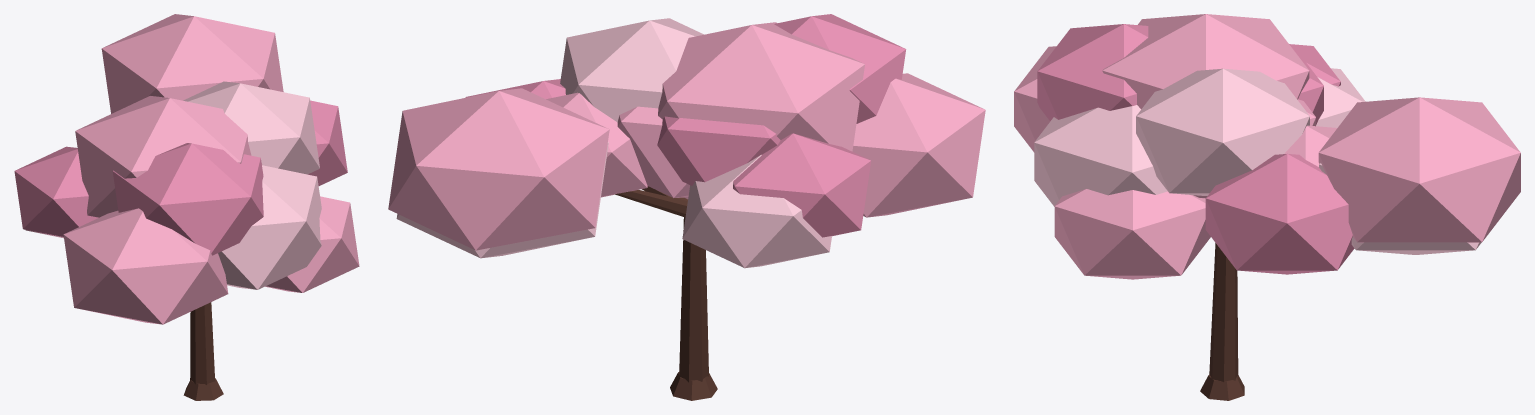
The model's file is Sakura_A.fbx.
3 renders of one model, left to right at view 1: azimuth 30°, elevation 25°; view 2: azimuth 150°, elevation 25°; view 3: azimuth 270°, elevation 25°, orthographic. The views are drawn at different scales.
Visible parts, largest first — view 1: Sakura_A; view 2: Sakura_A; view 3: Sakura_A.
Boxes of the visible parts, <box> form: Sakura_A: <box>14,14,359,400</box>; Sakura_A: <box>388,14,985,400</box>; Sakura_A: <box>1014,14,1520,400</box>.
Size of the model in its own units: 6.54 by 5.64 by 7.3.
